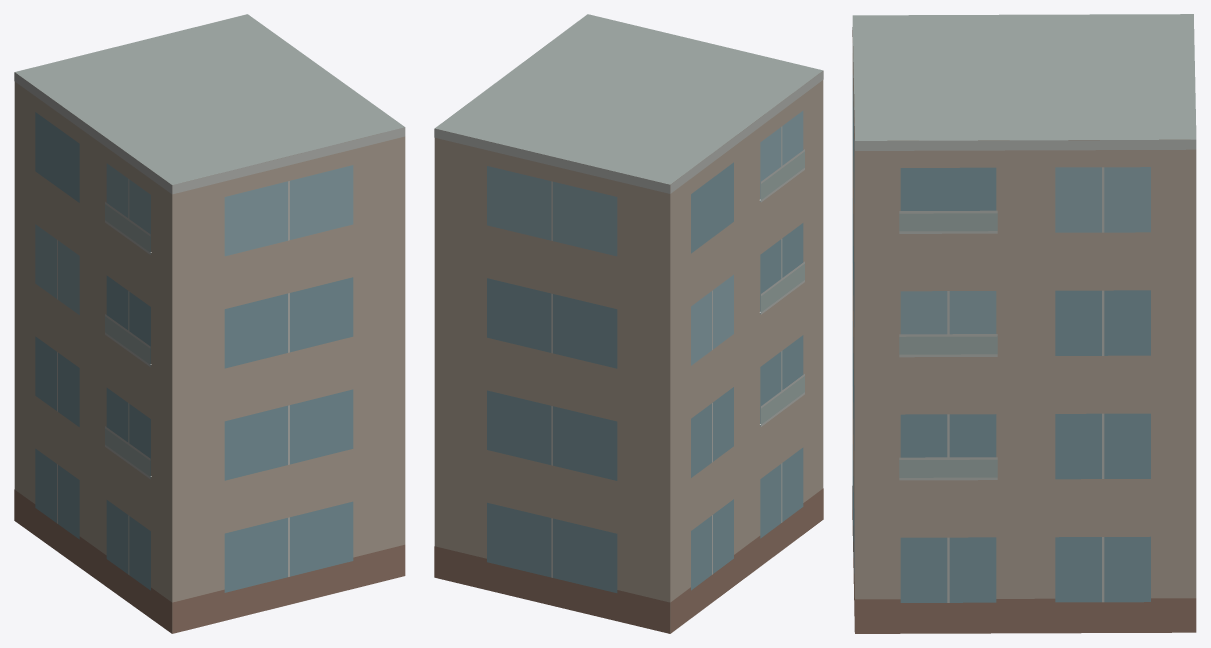
The model's file is survey-upis-32999499.glb.
3 renders of one model, left to right at view 1: azimuth 30°, elevation 25°; view 2: azimuth 150°, elevation 25°; view 3: azimuth 270°, elevation 25°, orthographic. The views are drawn at different scales.
Visible parts, largest first — view 1: survey-upis-32999499.tmp; view 2: survey-upis-32999499.tmp; view 3: survey-upis-32999499.tmp.
Boxes of the visible parts, x1,y1,x2,y2 form: survey-upis-32999499.tmp: [14, 14, 405, 633]; survey-upis-32999499.tmp: [434, 14, 823, 633]; survey-upis-32999499.tmp: [852, 14, 1196, 633].
Size of the model in its own units: 6.58 by 11.85 by 7.51.
